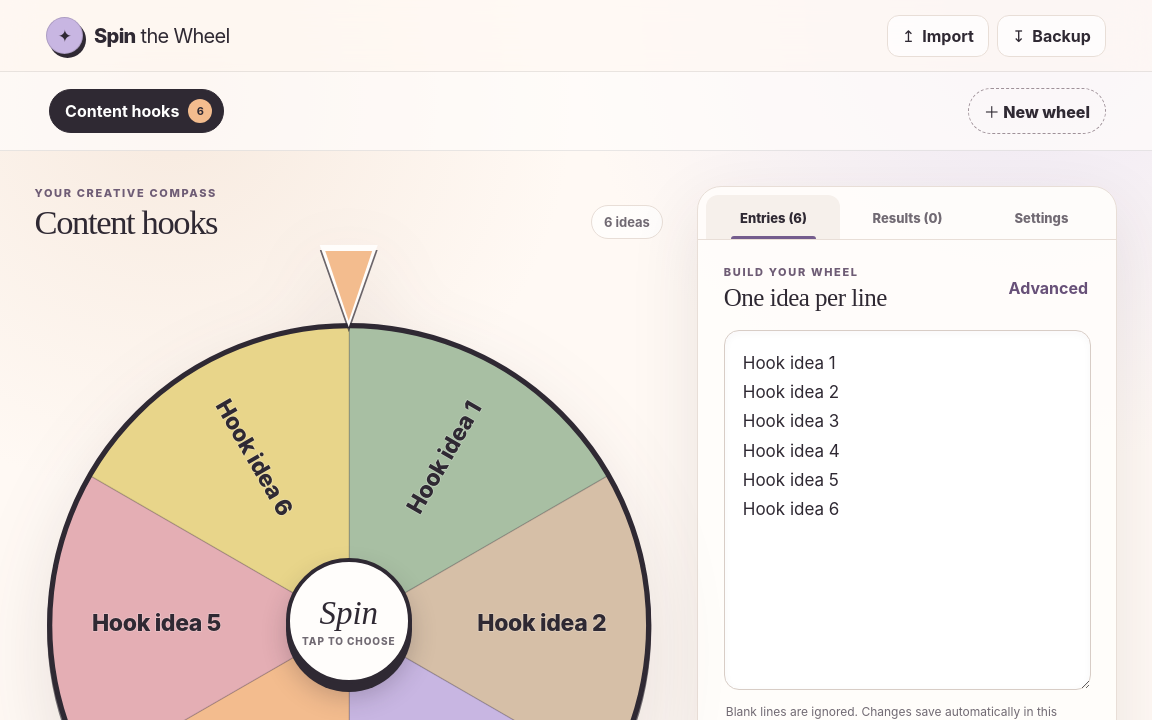
Test: App › keeps an auto-remove winner highlighted until the next spin
Click the tab "Settings". click: (1041,216)
box: left=974, top=194, right=1108, bottom=238
(page scrolled)
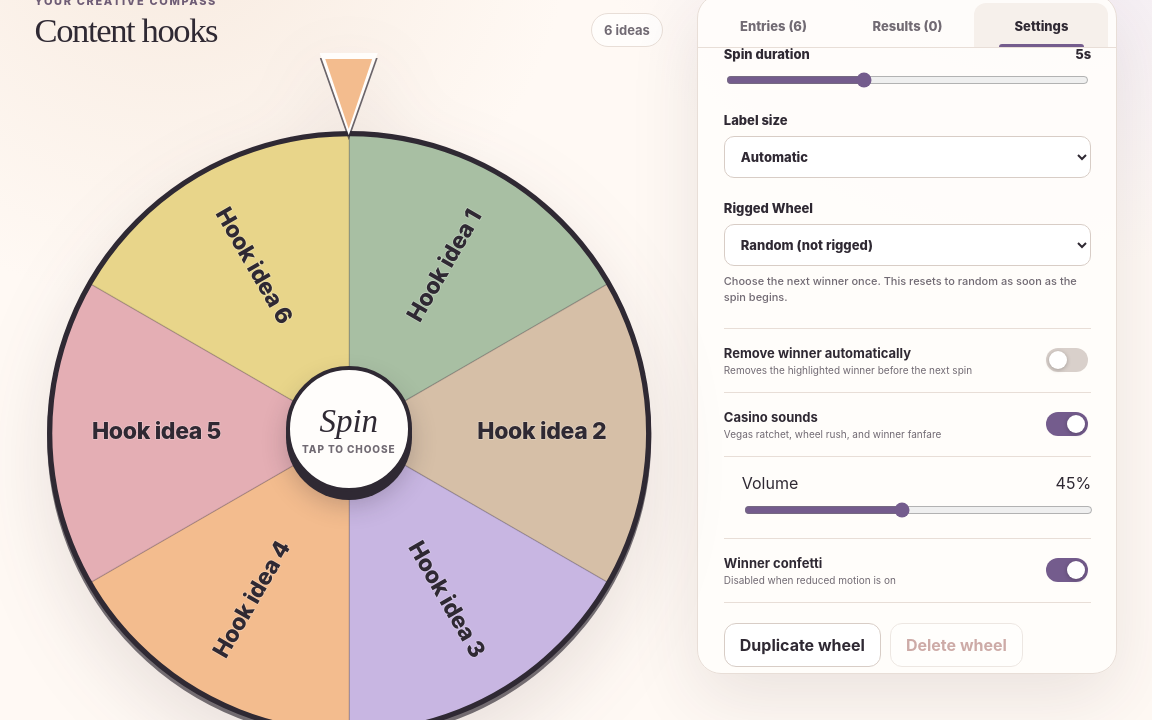
Click the checkbox labelled "Remove winner automatically". click: (1067,360)
box: left=1046, top=348, right=1088, bottom=372
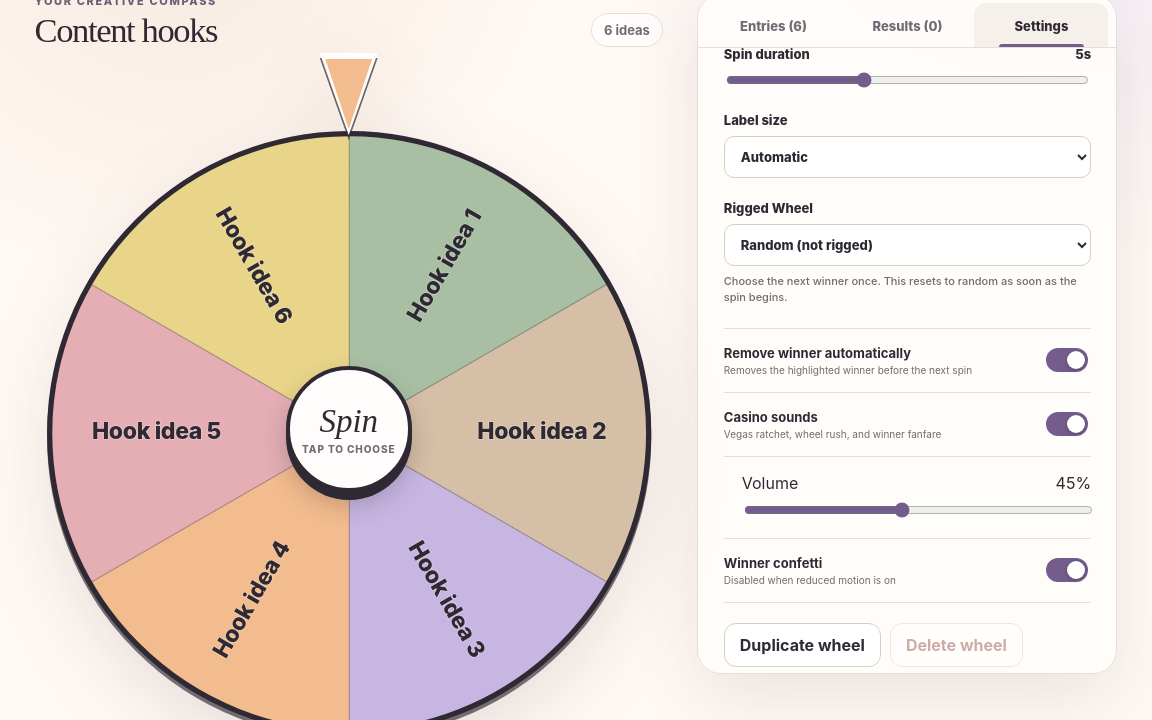
Click the button with aria-label "Spin the wheel". click: (349,429)
box: left=286, top=366, right=412, bottom=492
Wait 5100 ms
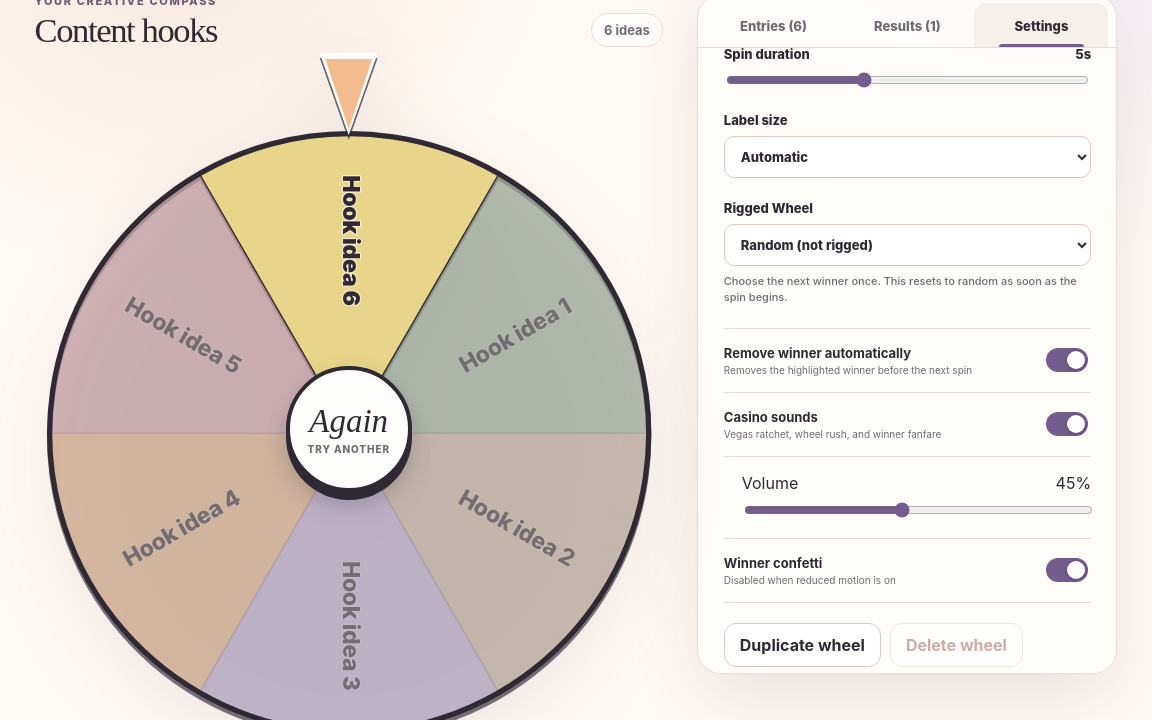
Expected: the tab "Entries (6)" is shown, left=706, top=2, right=840, bottom=46
Click the button with aria-label "Spin again". click: (349,429)
box: left=286, top=366, right=412, bottom=492
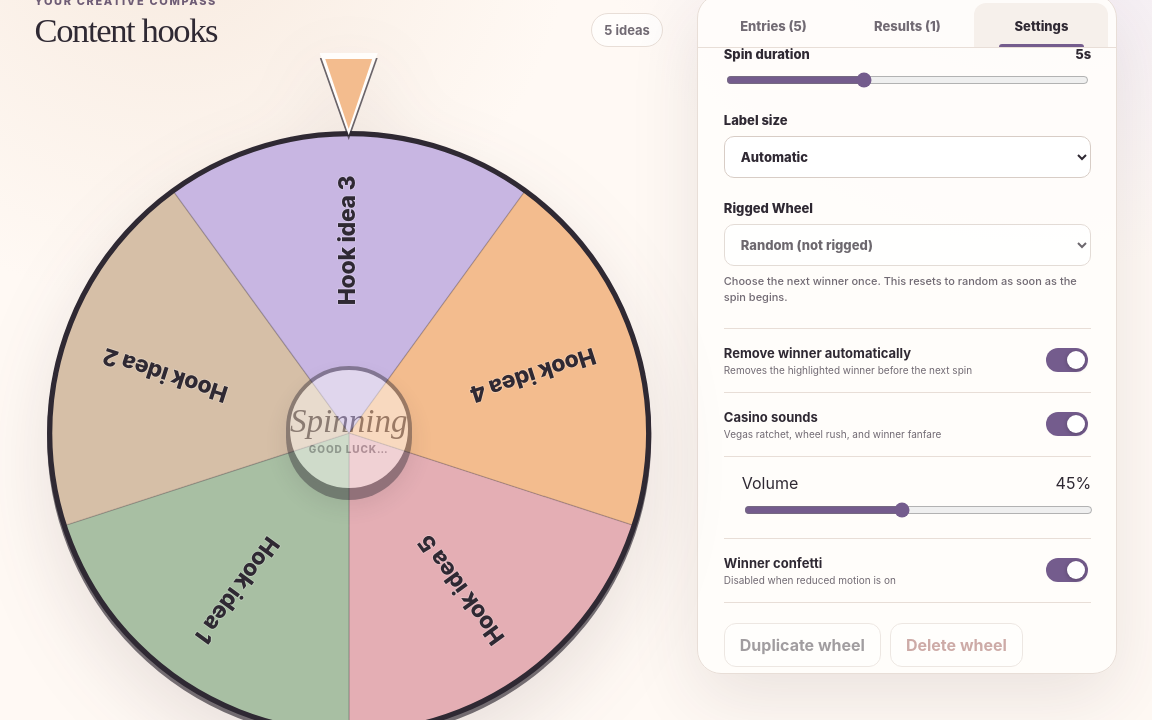
Result: the tab "Entries (5)" is shown at left=706, top=2, right=840, bottom=46
